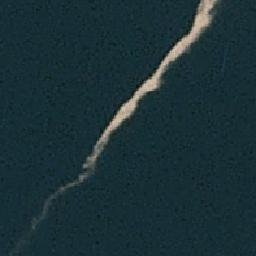debris: (66, 108, 118, 188), (118, 74, 157, 127), (186, 1, 216, 49), (156, 36, 187, 76)
